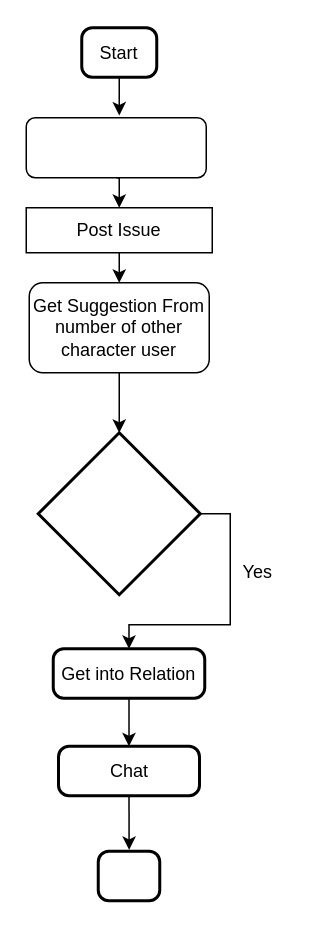
Image size: 314x927. Some labels were removed from this diagram. Here are the shapes that lost their labels. From the top down, the box of each, then its label:
(25, 116, 206, 178): Register As Particular Character
(36, 430, 201, 596): Accept Suggestion
(96, 849, 160, 902): End
